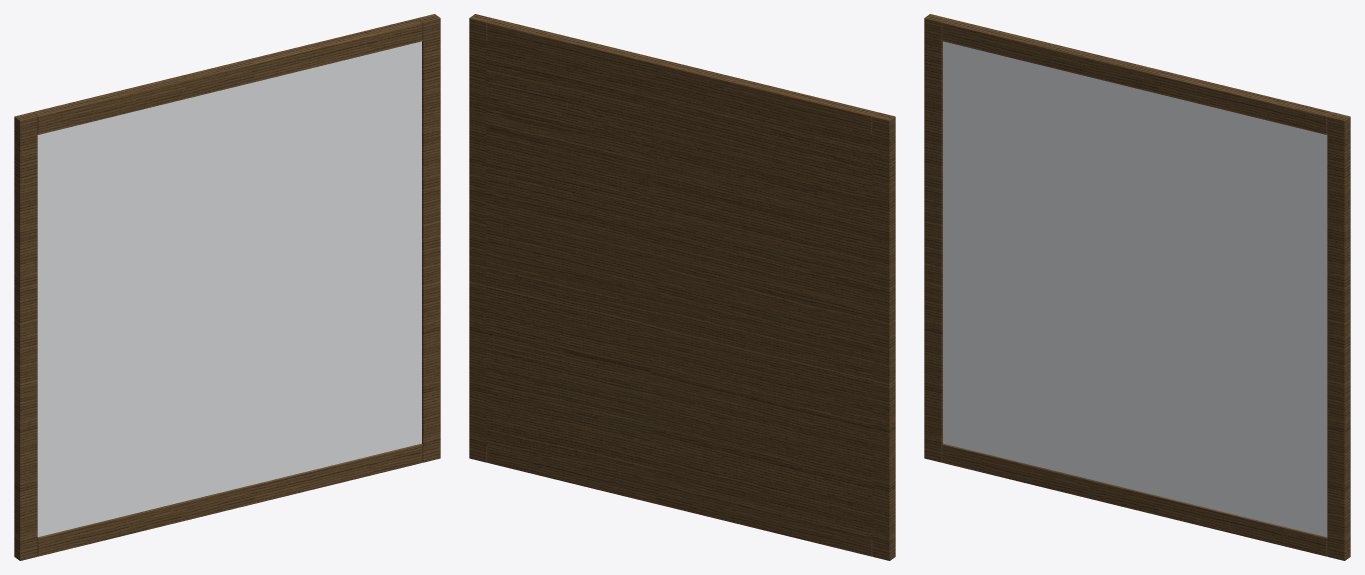
3 views of the same model, side by side, from view 1: azimuth 30°, elevation 25°; view 2: azimuth 150°, elevation 25°; view 3: azimuth 330°, elevation 25° (orthographic).
Parts seen in each view (by area): view 1: NEW HOI AN LV453.B71 | queen-9 web batch; view 2: NEW HOI AN LV453.B71 | queen-9 web batch; view 3: NEW HOI AN LV453.B71 | queen-9 web batch.
Boxes of the visible parts, <box> form: NEW HOI AN LV453.B71 | queen-9 web batch: <box>14,14,440,560</box>; NEW HOI AN LV453.B71 | queen-9 web batch: <box>469,14,895,560</box>; NEW HOI AN LV453.B71 | queen-9 web batch: <box>924,14,1350,560</box>.
Bounding box in the file's own units: 1 × 1 × 0.0253.
Materials: 3 (2 with a texture image).
